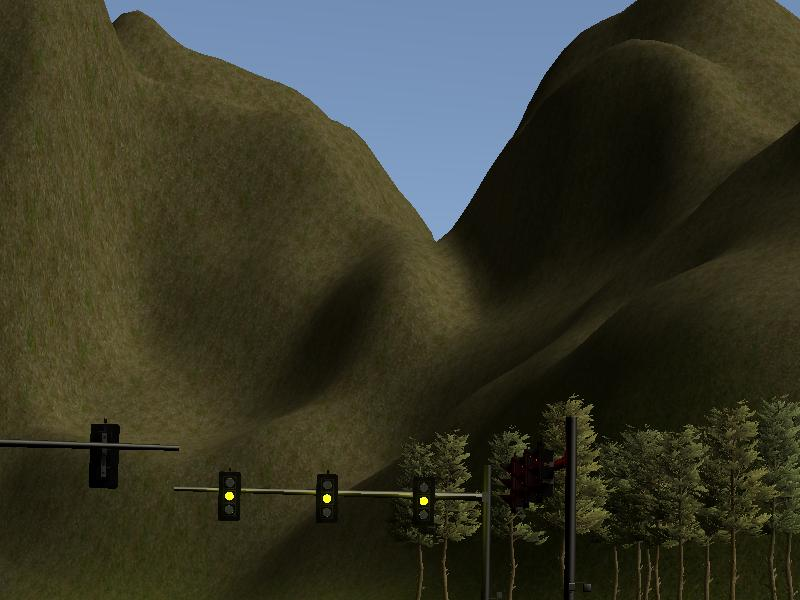Yellow: (218, 471, 241, 521), (316, 474, 337, 521), (414, 477, 433, 523)
